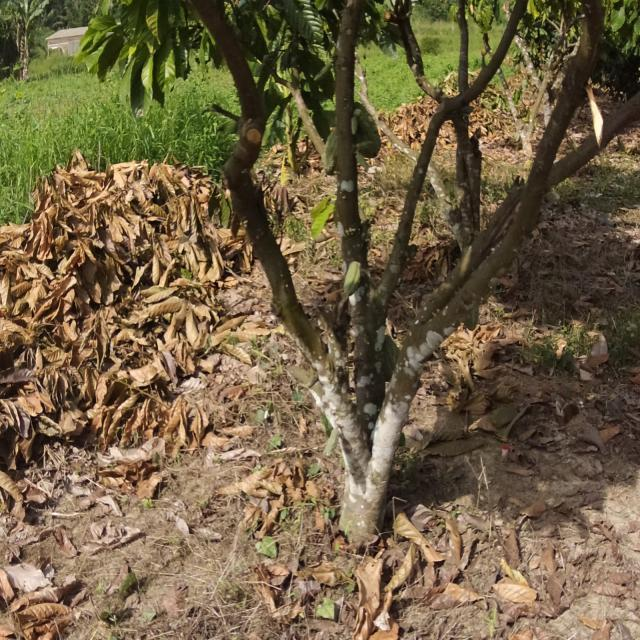Immature: (339, 257, 365, 297)
Mature_Unripe: (347, 107, 392, 159)
